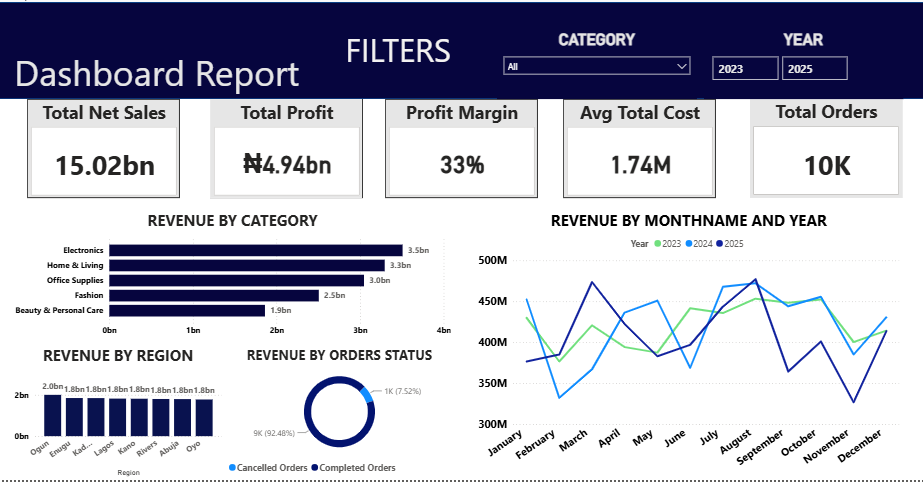

This screenshot's page, from the dashboard's own definition file:
{"tool":"powerbi","page":{"name":"Page 1","canvas":[1400,720],"ordinal":0},"visuals":[{"type":"cardVisual","title":"Total Net Sales","fields":{"Data":["Sales.Total NetSale"]},"box":[46.8,146.3,229.8,149.3],"z":0},{"type":"cardVisual","title":"Profit Margin","fields":{"Data":["Sales.Profit Margin"]},"box":[585.4,146.3,229.8,149.3],"z":1000},{"type":"cardVisual","title":"Total Profit","fields":{"Data":["Sales.Total Profit"]},"box":[322,146.3,229.8,149.3],"z":2000},{"type":"cardVisual","title":"Avg Total Cost","fields":{"Data":["Sales.Average Order Value"]},"box":[853.2,146.3,229.8,149.3],"z":3000},{"type":"shape","box":[0,0,1400.5,146.3],"z":4000},{"type":"textbox","box":[21.8,63.8,458.6,82.3],"z":5000},{"type":"barChart","title":"REVENUE BY CATEGORY","fields":{"Category":["Products.Category"],"Y":["Sales.Total NetSale"]},"box":[22,313.2,667.3,199],"z":6000},{"type":"lineChart","title":"REVENUE BY MONTHNAME AND YEAR","fields":{"Category":["Date.MonthName"],"Series":["Date.Year"],"Y":["Sales.Total NetSale"]},"box":[721.5,313.2,643.9,406.8],"z":7000},{"type":"columnChart","title":"REVENUE BY REGION","fields":{"Category":["Customers.Region"],"Y":["Sales.Total NetSale"]},"box":[22.6,516.3,322.2,203.2],"z":8000},{"type":"donutChart","title":"REVENUE BY ORDERS STATUS","fields":{"Y":["Sales.Cancelled Orders","Sales.Completed Orders"]},"box":[344.7,516.3,344.7,203.2],"z":9000},{"type":"cardVisual","title":"Total Orders","fields":{"Data":["Sales.Total Orders"]},"box":[1135.6,146.3,229.8,149.3],"z":10000},{"type":"slicer","title":"CATEGORY","fields":{"Values":["Products.Category"]},"box":[754.2,42.2,301.1,103.9],"z":11000},{"type":"slicer","title":"YEAR","fields":{"Values":["Date.Year"]},"box":[1065.8,42.2,299.6,103.9],"z":12000},{"type":"textbox","box":[520.9,33.1,233.3,79.8],"z":12001}]}

Visuals, with their boxes in screenshot pixels (x1, y1, x2, y2), scaled from the page's 1400x720 canvas onto the 923x482 screenshot:
"Total Net Sales" cardVisual: (31, 98, 182, 198)
"Profit Margin" cardVisual: (386, 98, 537, 198)
"Total Profit" cardVisual: (212, 98, 364, 198)
"Avg Total Cost" cardVisual: (563, 98, 714, 198)
shape: (0, 0, 922, 98)
textbox: (14, 43, 317, 98)
"REVENUE BY CATEGORY" barChart: (15, 210, 454, 343)
"REVENUE BY MONTHNAME AND YEAR" lineChart: (476, 210, 900, 481)
"REVENUE BY REGION" columnChart: (15, 346, 227, 481)
"REVENUE BY ORDERS STATUS" donutChart: (227, 346, 455, 481)
"Total Orders" cardVisual: (749, 98, 900, 198)
"CATEGORY" slicer: (497, 28, 696, 98)
"YEAR" slicer: (703, 28, 900, 98)
textbox: (343, 22, 497, 76)
